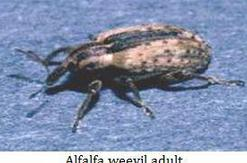weevils: (10, 12, 247, 144)
